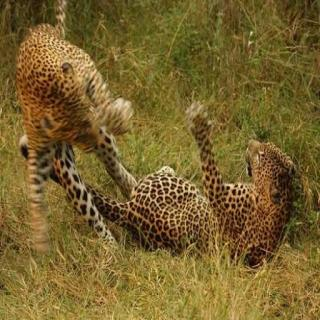Leopard: (122, 102, 303, 278), (12, 7, 122, 241)
